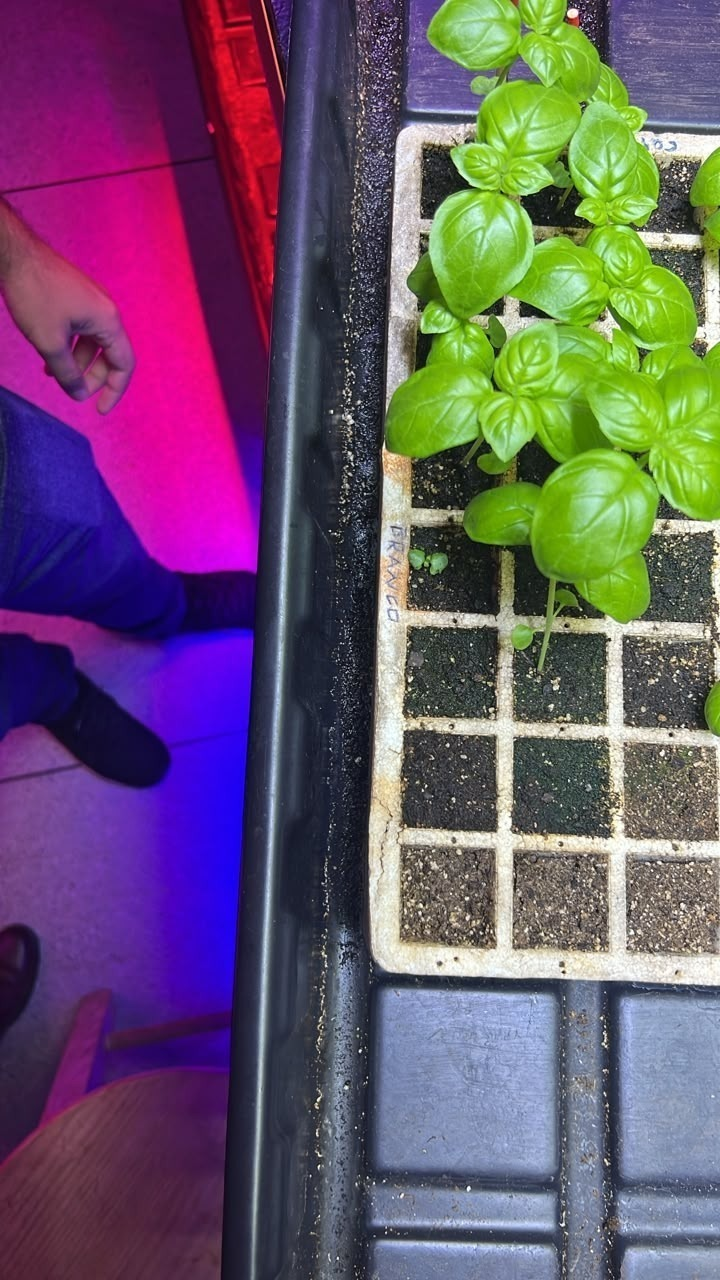Folha: (376, 299, 665, 478), (686, 143, 720, 290), (701, 674, 719, 743), (509, 622, 534, 651), (407, 547, 429, 569), (429, 551, 448, 575), (406, 548, 425, 569), (425, 554, 431, 559)
Germinacao: (403, 287, 582, 336), (698, 657, 720, 758), (538, 760, 582, 810), (406, 547, 449, 575), (458, 647, 482, 681), (639, 765, 661, 785), (522, 682, 542, 702), (669, 793, 685, 814)
